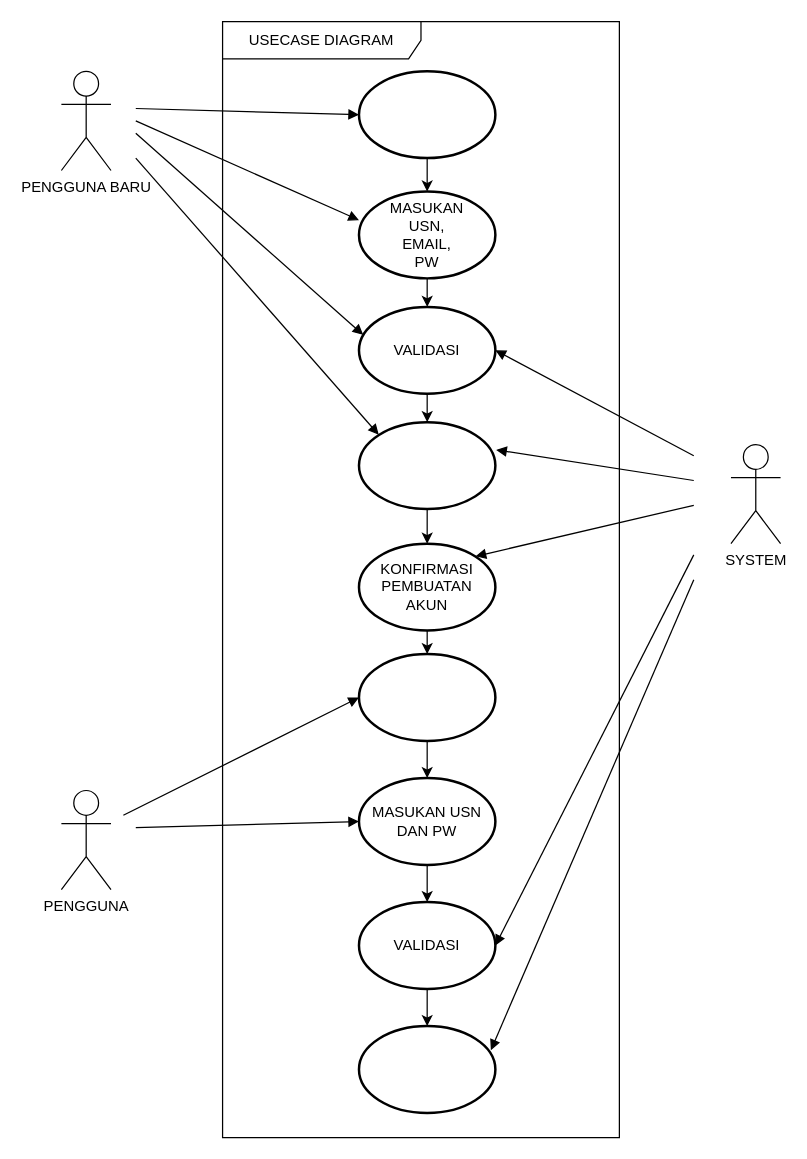
Image size: 807x1159. Some labels were removed from this diagram. Here are the shapes that lost their labels. From the top down, the centre of each, then its label:
At (x=426, y=114): "REGISTER".
At (x=426, y=465): "SIMPAN DATA PENGGUNA".
At (x=426, y=697): "LOGIN".
At (x=426, y=1069): "AKSES KE HALAMAN UTAMA".
